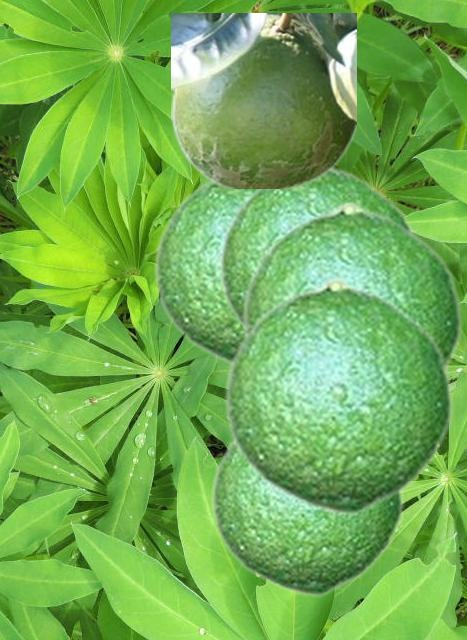dalandan: (222, 276, 453, 515), (240, 200, 462, 372), (217, 164, 417, 329), (171, 13, 355, 187), (209, 440, 403, 596), (152, 178, 254, 366)
